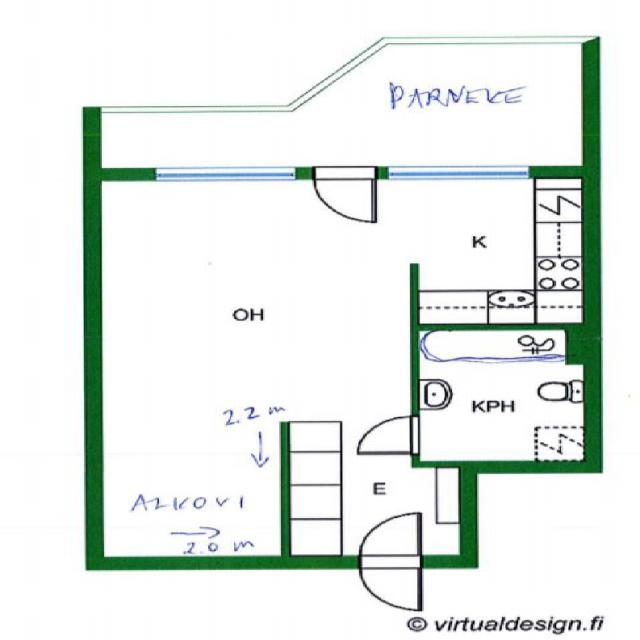door: (314, 164, 376, 222), (361, 513, 421, 567), (361, 556, 421, 610), (358, 416, 418, 453)
